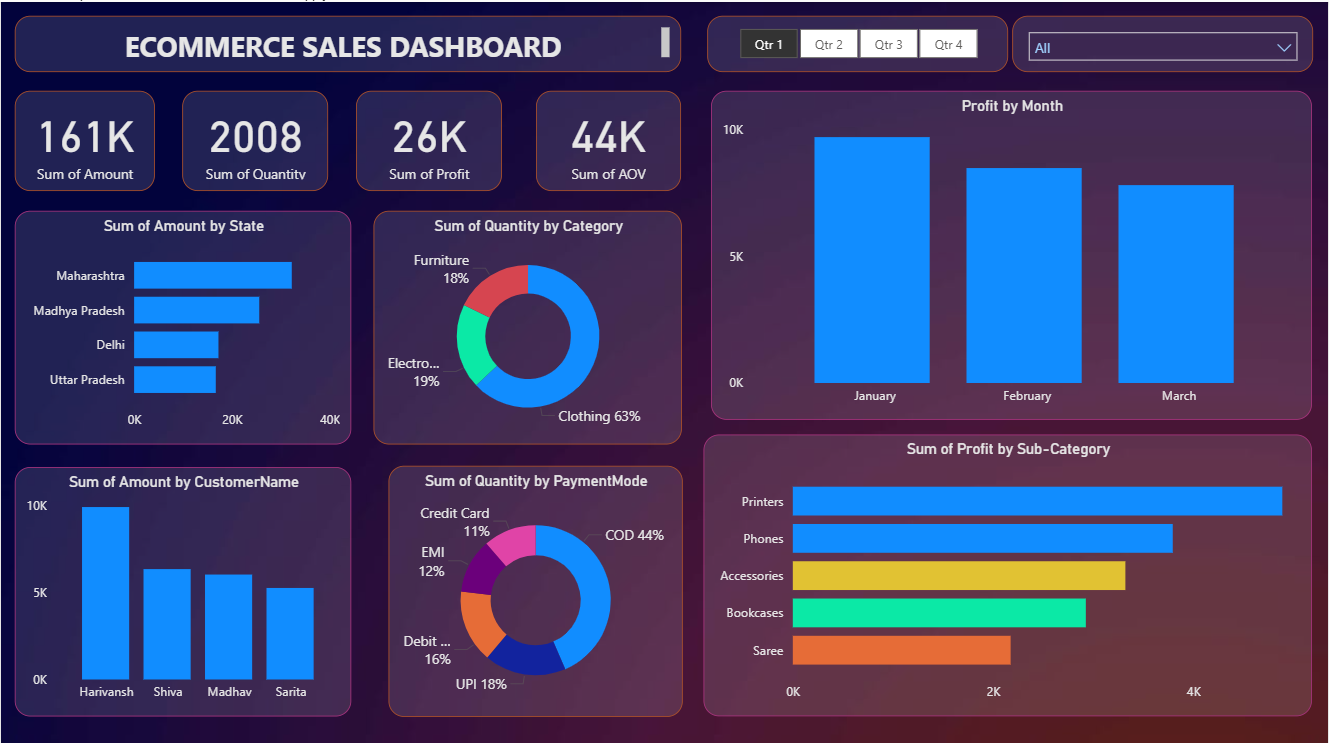

The dashboard page shown, as its layout file describes it:
{"tool":"powerbi","page":{"name":"Page 1","canvas":[1280,720],"ordinal":0},"visuals":[{"type":"textbox","box":[12.8,12.8,642.9,54.2],"z":0},{"type":"columnChart","title":"Profit by Month","fields":{"Category":["Orders.Order Date.Variation.Date Hierarchy.Month"],"Y":["Sum(Details.Profit)"]},"box":[685.6,85.5,580.1,317.9],"z":1000},{"type":"barChart","fields":{"Category":["Details.Sub-Category"],"Y":["Sum(Details.Profit)"]},"box":[678.5,417.6,587.3,272.2],"z":2000},{"type":"donutChart","fields":{"Category":["Details.Category"],"Y":["Sum(Details.Quantity)"]},"box":[359.2,201,297.9,225.2],"z":3000},{"type":"donutChart","fields":{"Category":["Details.PaymentMode"],"Y":["Sum(Details.Quantity)"]},"box":[373.5,447.6,283.7,242.3],"z":4000},{"type":"card","fields":{"Values":["Sum(Details.Amount)"]},"box":[12.8,85.5,135.4,96.9],"z":5000},{"type":"card","fields":{"Values":["Sum(Details.Quantity)"]},"box":[175.3,85.5,141.1,96.9],"z":6000},{"type":"card","fields":{"Values":["Sum(Details.Profit)"]},"box":[342.1,85.5,141.1,96.9],"z":7000},{"type":"card","fields":{"Values":["Sum(Details.AOV)"]},"box":[516,85.5,139.7,96.9],"z":8000},{"type":"barChart","fields":{"Category":["Orders.State"],"Y":["Sum(Details.Amount)"]},"box":[12.8,201,325,225.2],"z":9000},{"type":"columnChart","fields":{"Category":["Orders.CustomerName"],"Y":["Sum(Details.Amount)"]},"box":[12.8,449,325,240.9],"z":10000},{"type":"slicer","fields":{"Values":["Orders.Order Date.Variation.Date Hierarchy.Quarter"]},"box":[681.3,12.8,290.8,54.2],"z":11000},{"type":"slicer","fields":{"Values":["Orders.State"]},"box":[976,13.3,290.8,54.3],"z":12000}]}

Visuals, with their boxes in screenshot pixels (x1, y1, x2, y2), scaled from the page's 1280x720 canvas onto the 1329x743 screenshot:
textbox: 13,13,681,69
"Profit by Month" columnChart: 712,88,1314,416
barChart - Details.Sub-Category x Sum(Details.Profit): 704,431,1314,712
donutChart - Details.Category x Sum(Details.Quantity): 373,207,682,440
donutChart - Details.PaymentMode x Sum(Details.Quantity): 388,462,682,712
card - Sum(Details.Amount): 13,88,154,188
card - Sum(Details.Quantity): 182,88,329,188
card - Sum(Details.Profit): 355,88,502,188
card - Sum(Details.AOV): 536,88,681,188
barChart - Orders.State x Sum(Details.Amount): 13,207,351,440
columnChart - Orders.CustomerName x Sum(Details.Amount): 13,463,351,712
slicer - Orders.Order Date.Variation.Date Hierarchy.Quarter: 707,13,1009,69
slicer - Orders.State: 1013,14,1315,70
